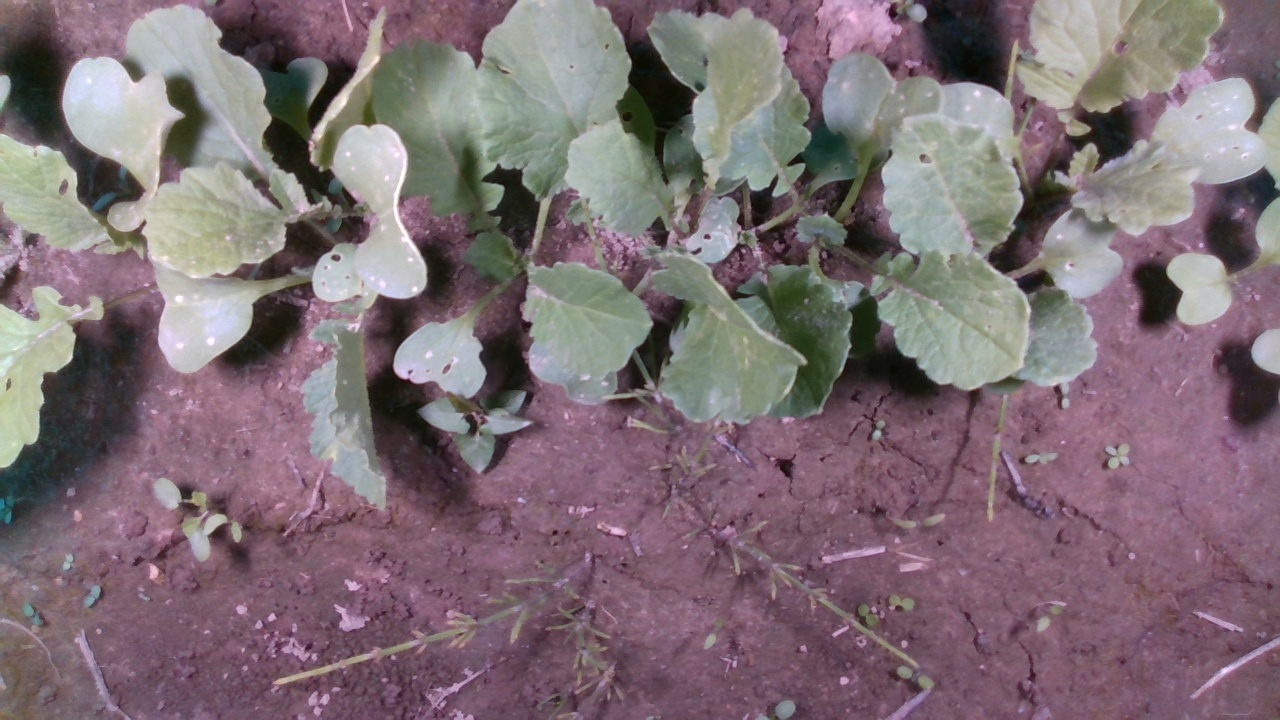weed: (885, 511, 946, 530), (895, 665, 936, 689), (1035, 601, 1065, 632), (1103, 442, 1131, 470), (21, 601, 46, 627), (1023, 451, 1059, 467), (857, 603, 878, 627), (887, 595, 915, 612), (83, 583, 101, 608), (871, 419, 885, 442), (61, 552, 74, 570)
